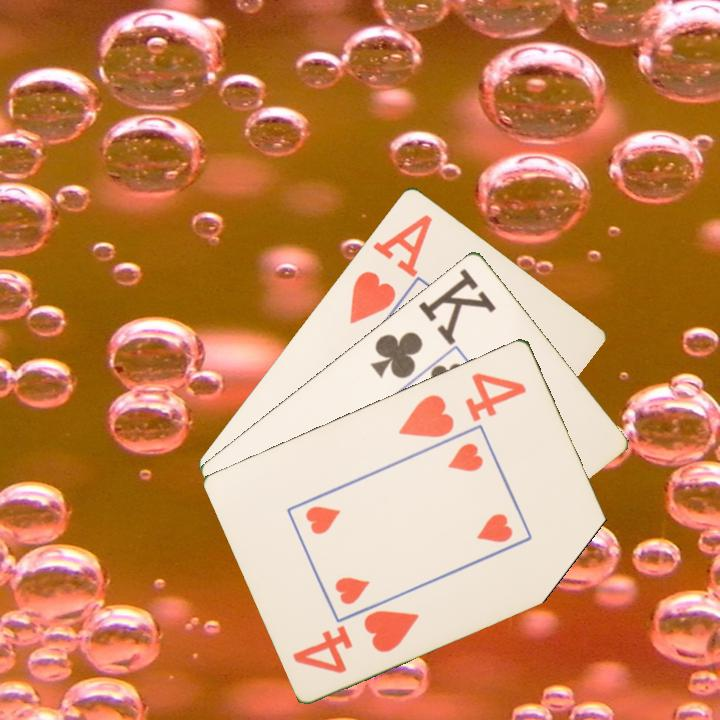4h: (395, 368, 530, 441), (289, 605, 423, 676)
Ah: (345, 210, 435, 327)
Kc: (367, 264, 499, 382)
